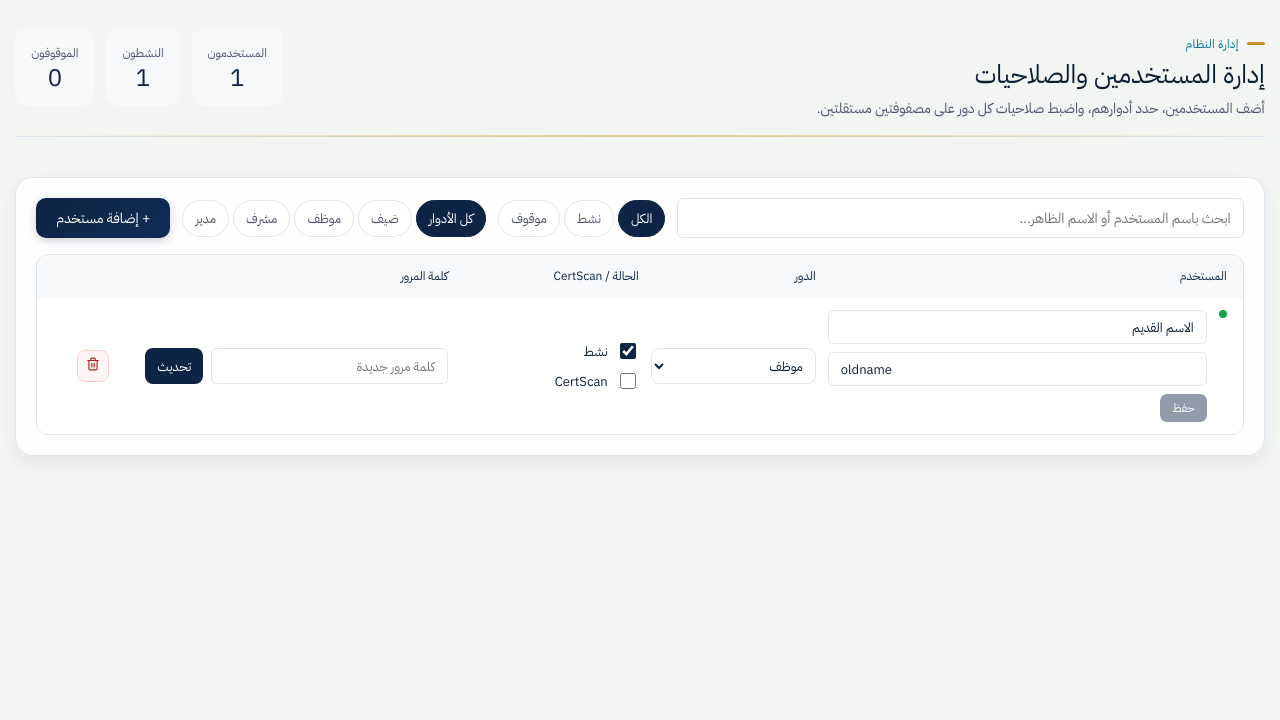
Test: UserManagementTab — username rename guard › fails closed with no workspace mounted — the rename is refused, the display name is kept
Expected: the element showing "الاسم القديم" is shown, [37,297,1243,434]
Replace the text in the field named "اسم المستخدم" with "newname" at (1017, 369), box [828,352,1207,386]
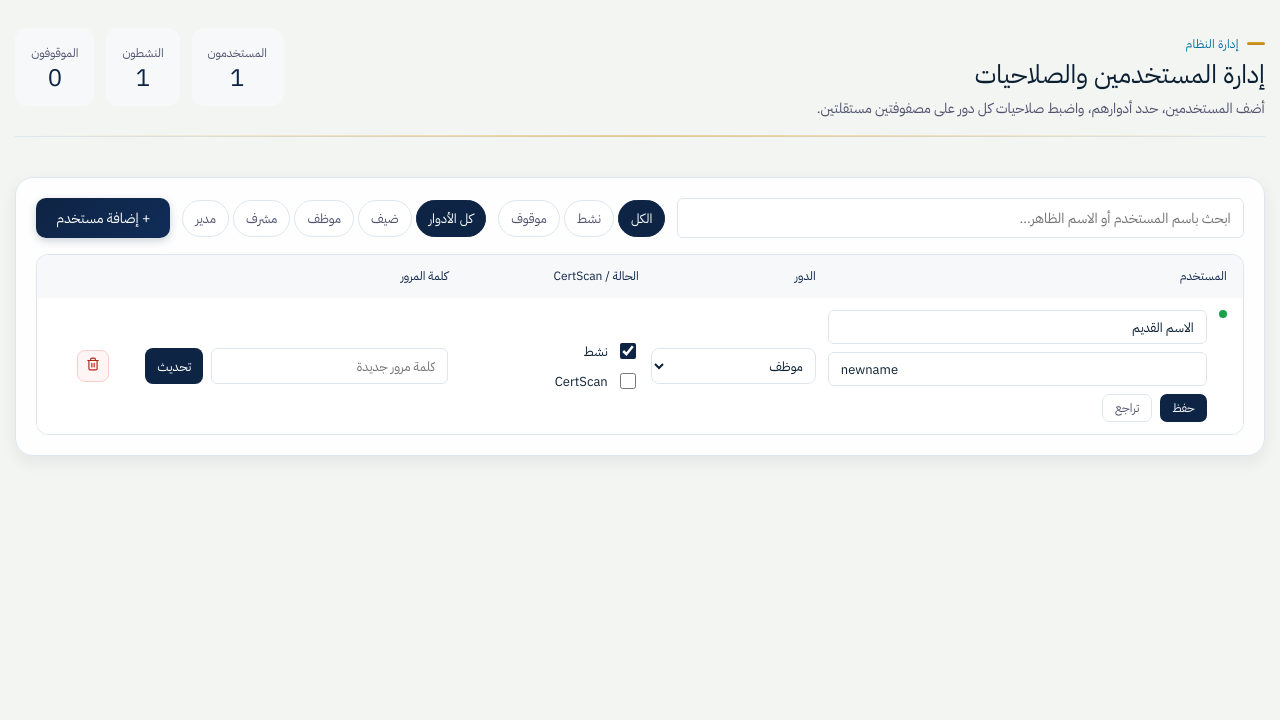
Replace the text in the field named "الاسم الظاهر" with "الاسم الجديد" at (1017, 327), box [828,310,1207,344]
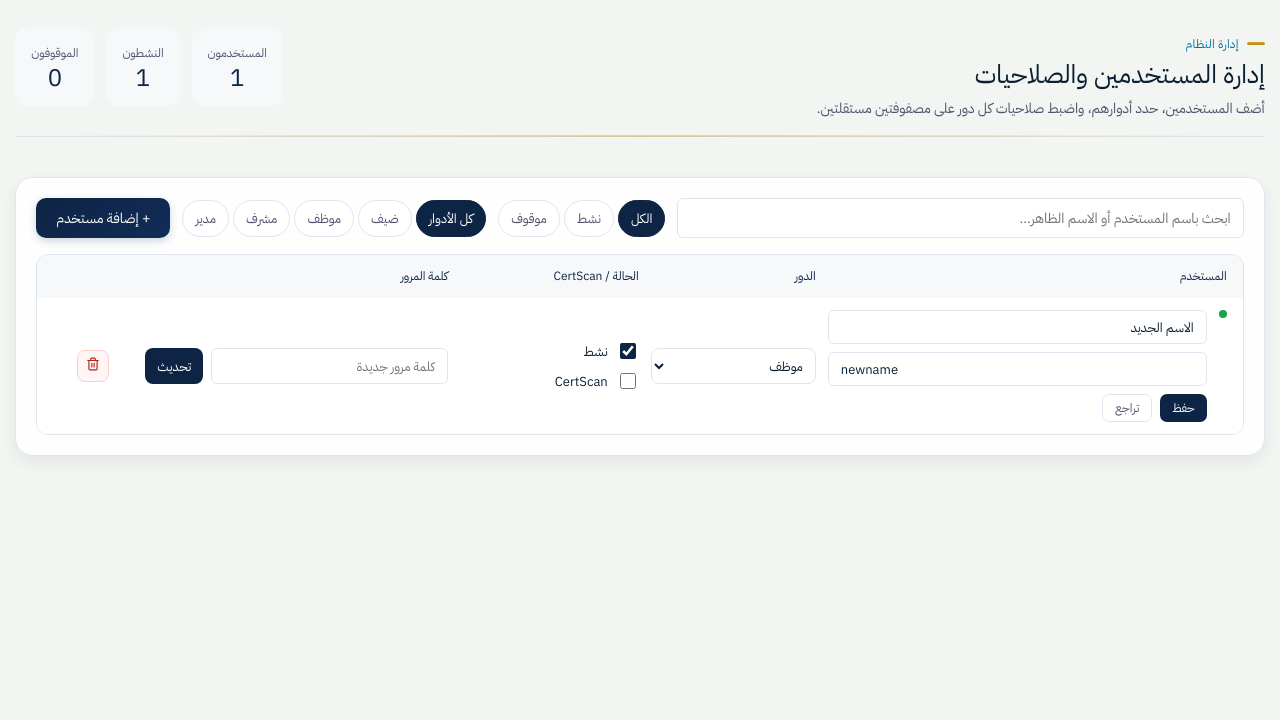
Click the button "حفظ" at (1184, 408), box [1160,394,1207,422]
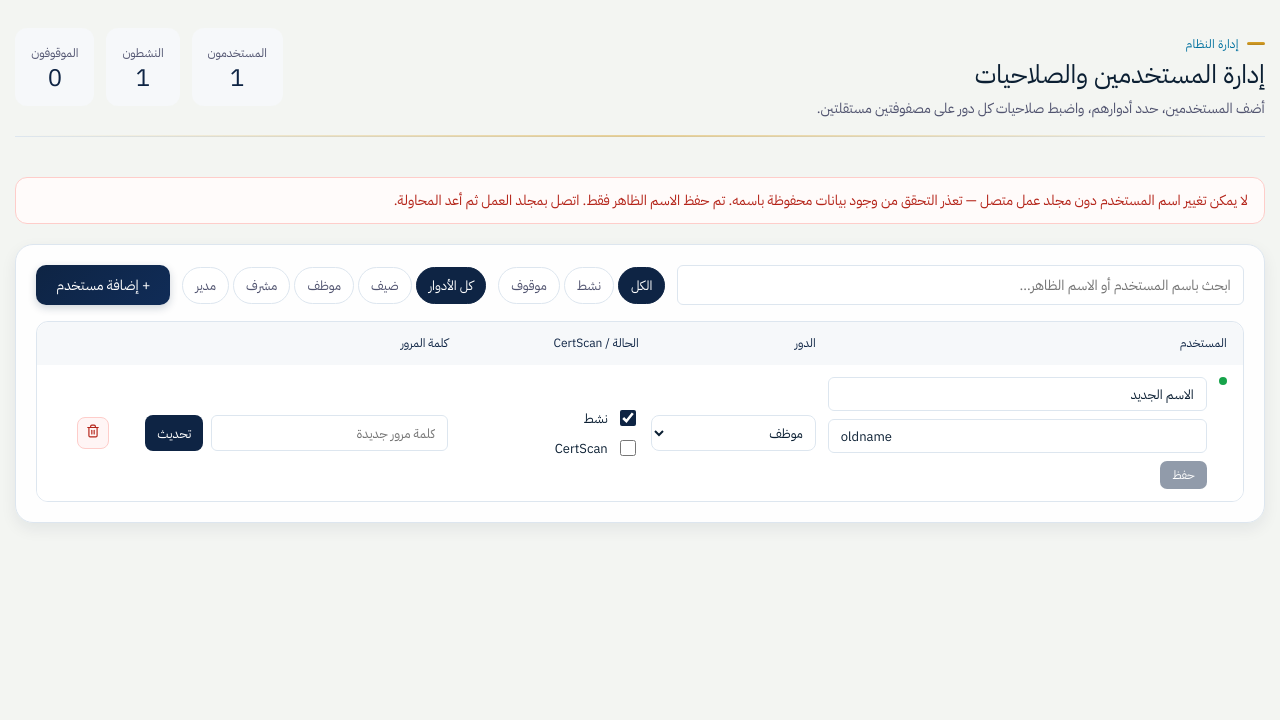
Now the text "لا يمكن تغيير اسم المستخدم دون مجلد عمل متصل — تعذر التحقق من وجود بيانات محفوظة باسمه. تم حفظ الاسم الظاهر فقط. اتصل بم" is shown, box [394,190,1248,211]
